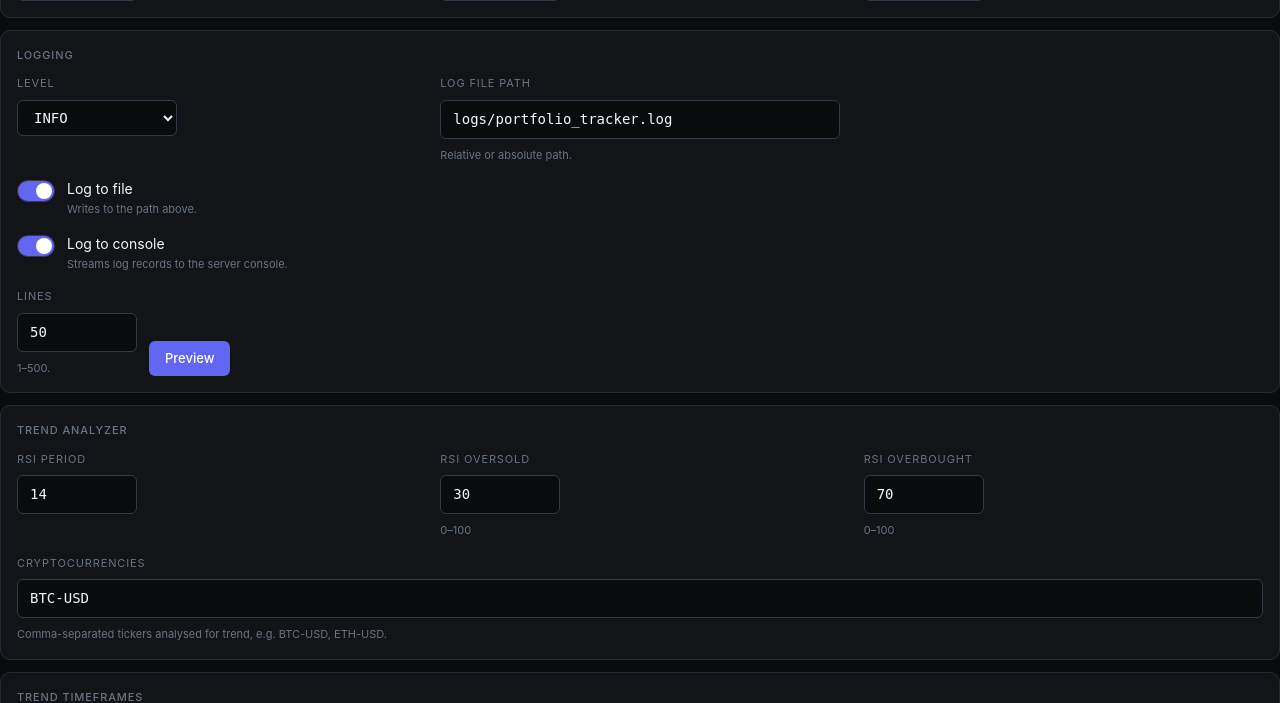
Test: Settings log preview › renders the returned log lines
The width and height of the screenshot is (1280, 703).
(page scrolled)
Expected: the heading "Logging" is shown, [17,48,74,62]
Click the button "Preview". click: (190, 358)
box: [149,340,230,376]
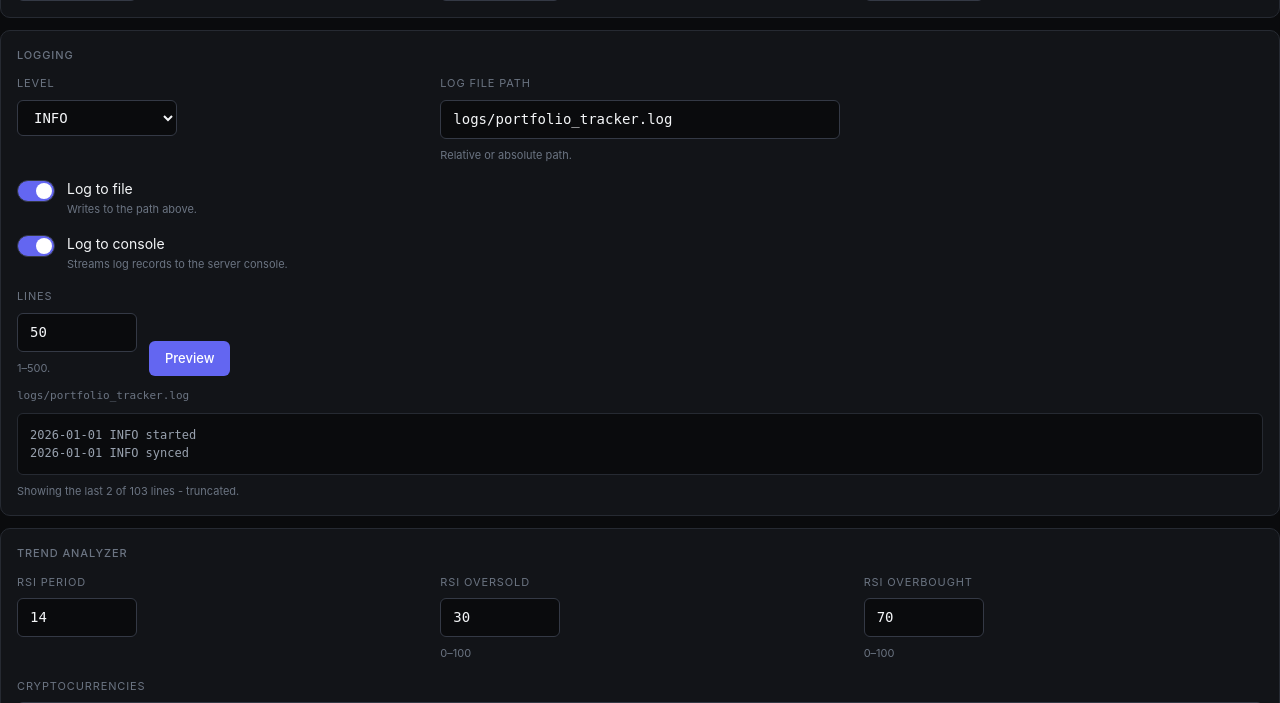
Now the text "2026-01-01 INFO started 2026-01-01 INFO synced" is shown, box [17,412,1263,474]
